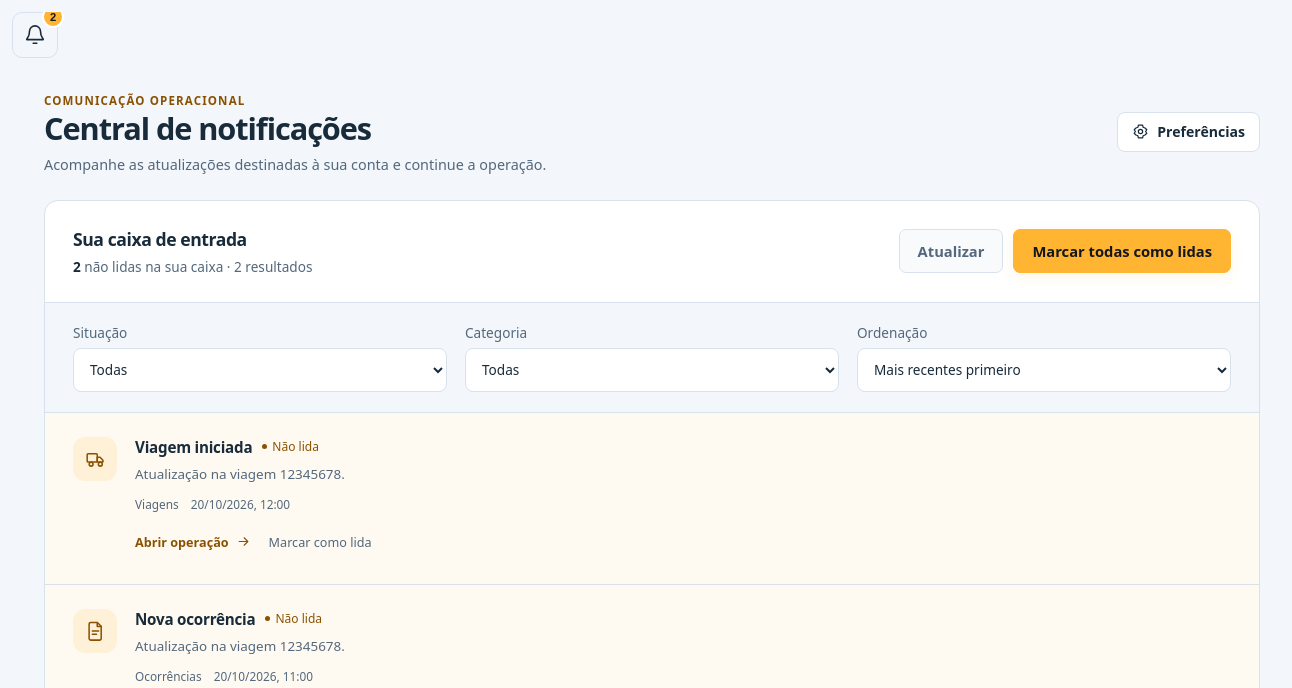
it: sincroniza leitura individual e contador do sino
Check: the heading "Viagem iniciada" is shown, box x1=135 y1=437 x2=252 y2=457
Click the button with aria-label "Marcar como lida: Viagem iniciada" at (320, 542), box x1=269 y1=524 x2=372 y2=560
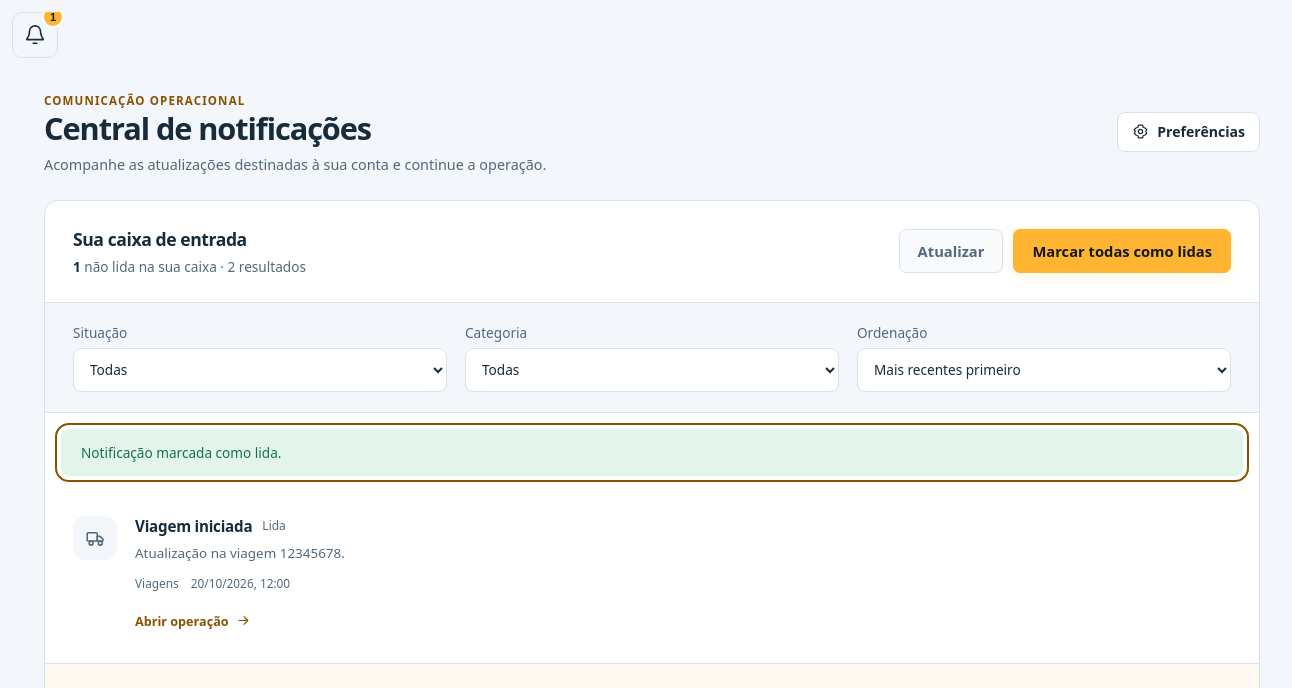
Check: the button named "Notificações, 1 não lidas" is shown, box x1=12 y1=12 x2=58 y2=58
Check: the text "Notificação marcada como lida." is shown, box x1=61 y1=429 x2=1243 y2=476
